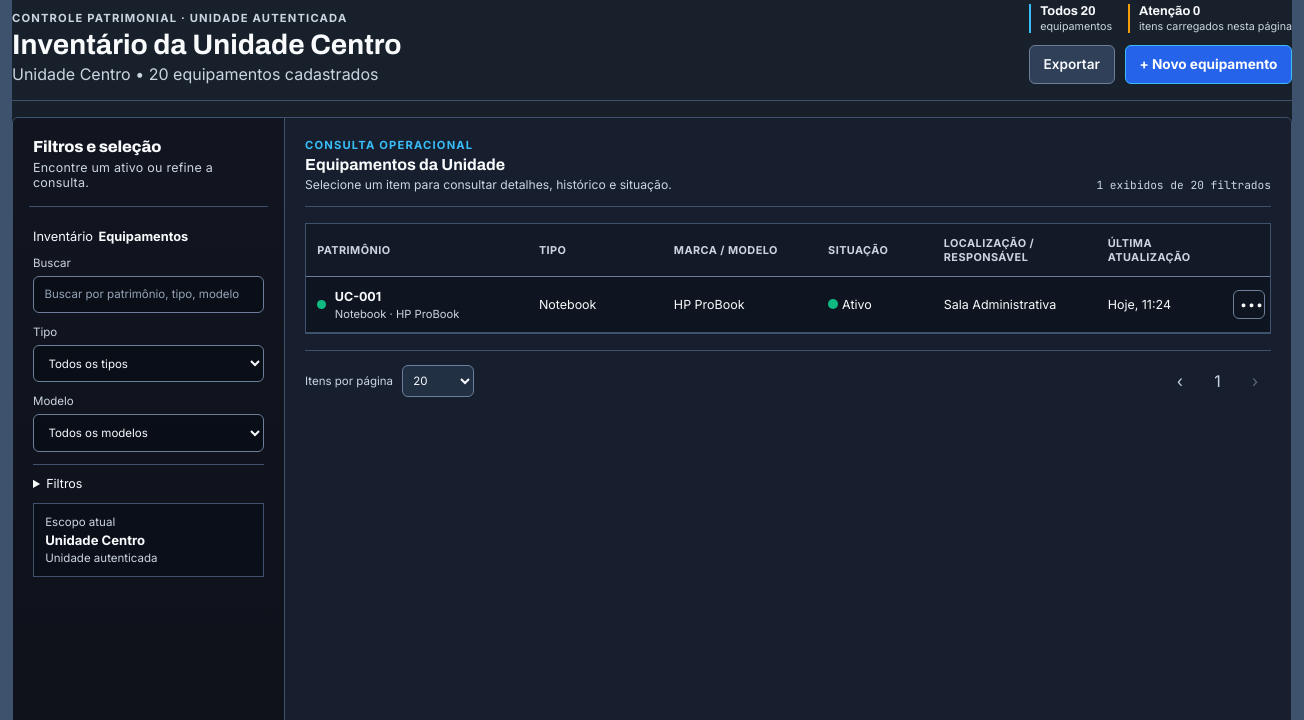
persists type and model filters in the URL and resets pagination
The width and height of the screenshot is (1304, 720).
Select "Notebook" in the dropdown labelled "Tipo" at (148, 364), box x1=33 y1=345 x2=264 y2=382
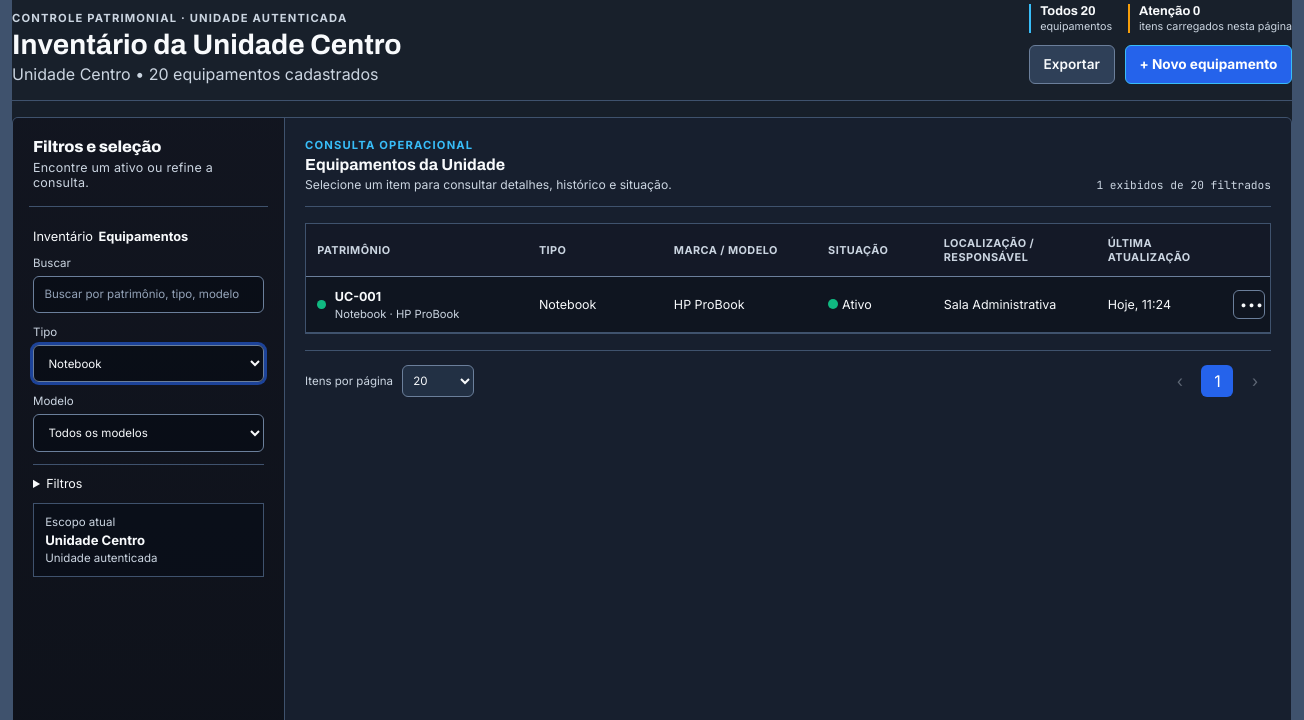
Select "ProBook" in the dropdown labelled "Modelo" at (148, 433), box x1=33 y1=414 x2=264 y2=452
(page scrolled)
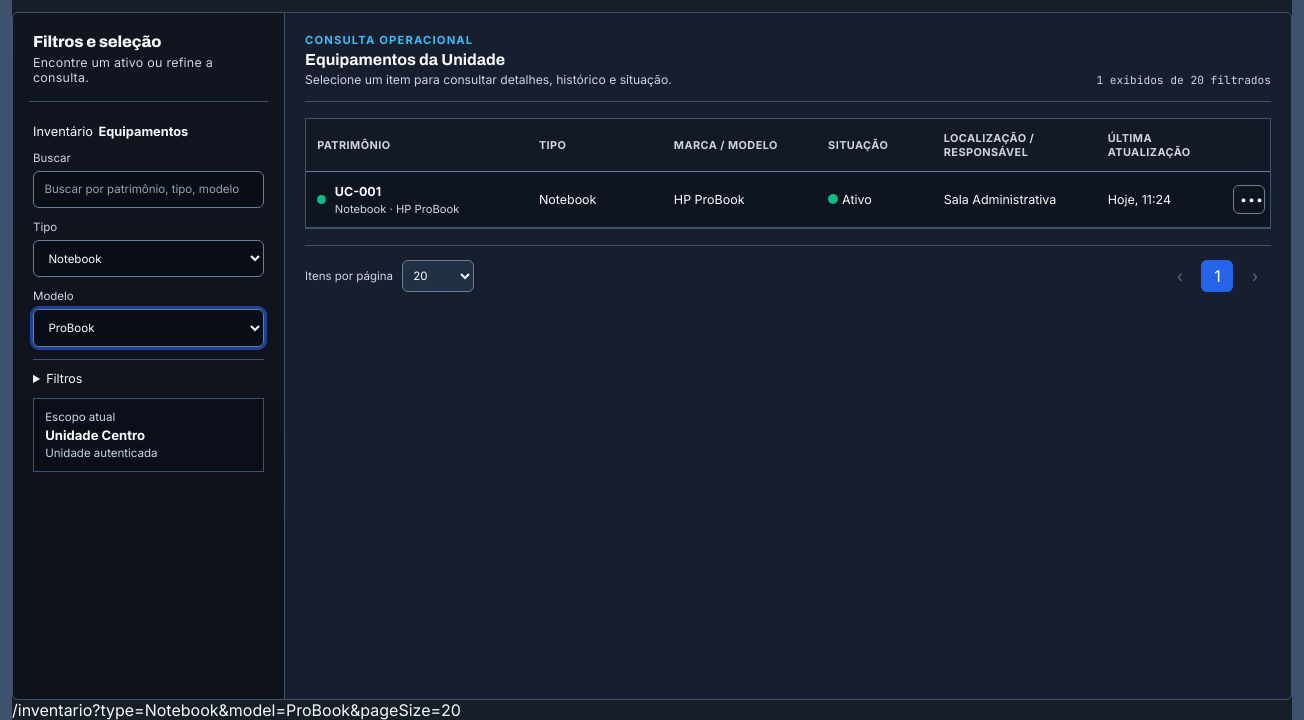
Expected: the text with test id "location" does not show "page=3", x1=12 y1=700 x2=461 y2=719
Result: the text with test id "location" shows "type=Notebook" at x1=92 y1=700 x2=461 y2=719
Result: the text with test id "location" shows "model=ProBook" at x1=92 y1=700 x2=461 y2=719
